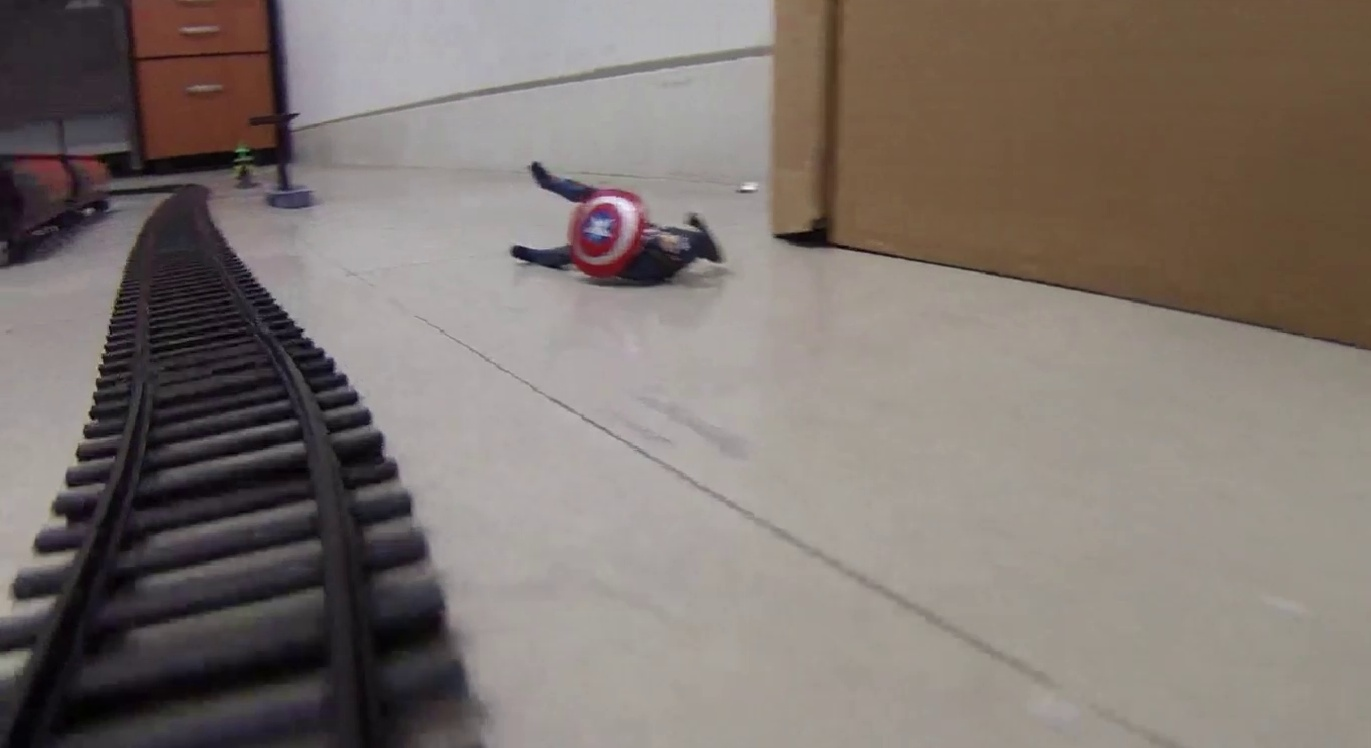people: (512, 162, 724, 287)
